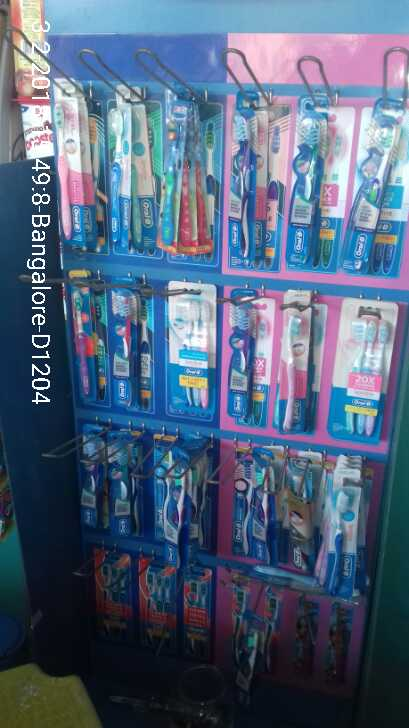oralb: (328, 293, 400, 447), (344, 99, 400, 278), (161, 278, 218, 417), (285, 93, 329, 271), (276, 287, 316, 431), (51, 77, 83, 243), (157, 95, 188, 257), (65, 266, 100, 403), (326, 466, 358, 599), (231, 90, 256, 260), (105, 106, 130, 252), (228, 285, 254, 417), (249, 444, 273, 564)
